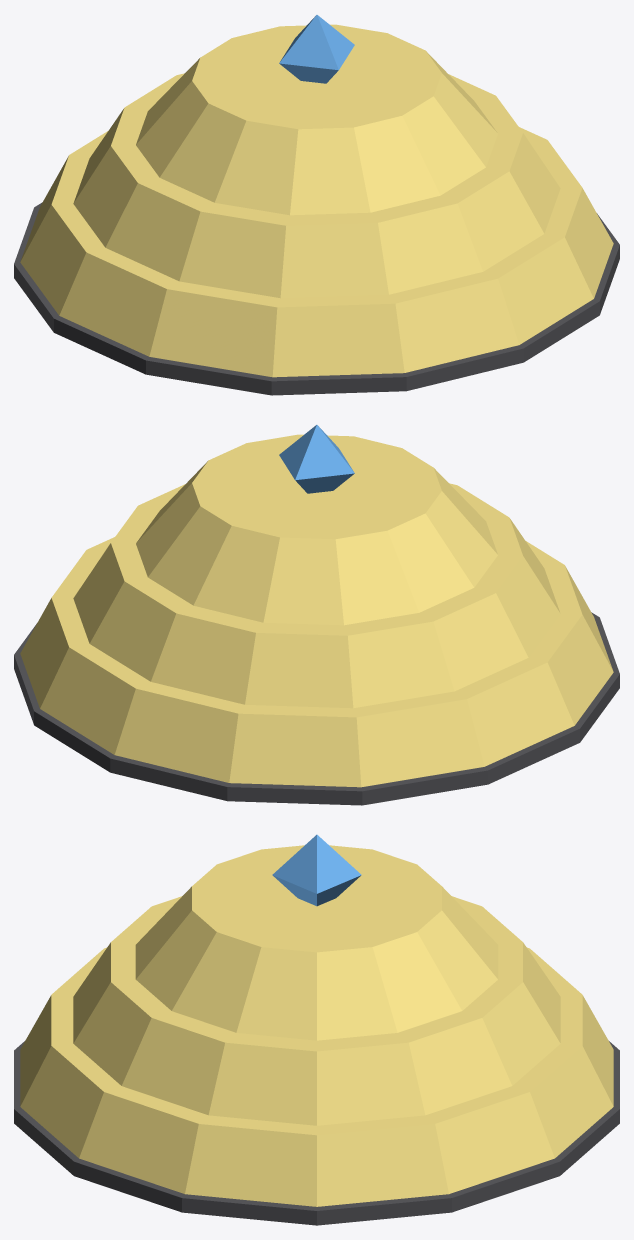
File: shoulders.glb
The picture shows the model from 3 angles, top to bottom: view 1: azimuth 30°, elevation 25°; view 2: azimuth 150°, elevation 25°; view 3: azimuth 270°, elevation 25°; orthographic projection. The views are drawn at different scales.
Size of the model in its own units: 1.94 by 0.895 by 1.89.
